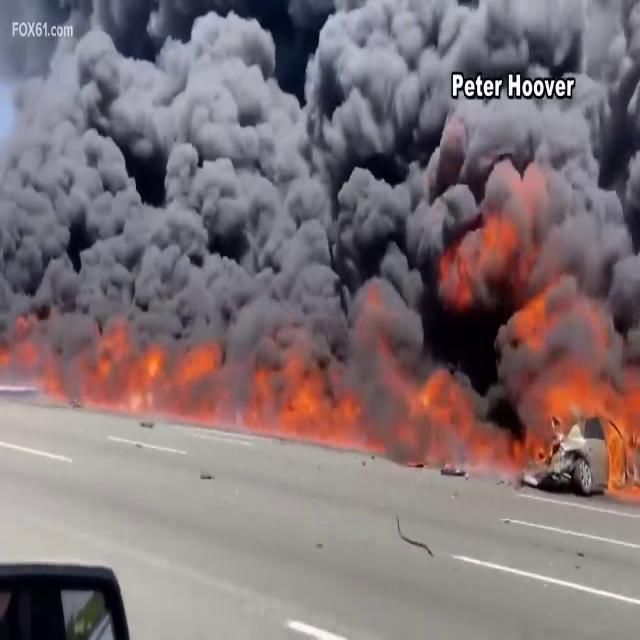Fire: (24, 314, 586, 444), (12, 320, 480, 434), (4, 314, 339, 430), (78, 324, 352, 432), (1, 308, 223, 408), (525, 360, 640, 494), (75, 315, 217, 413)
Smoke: (0, 1, 640, 336)
